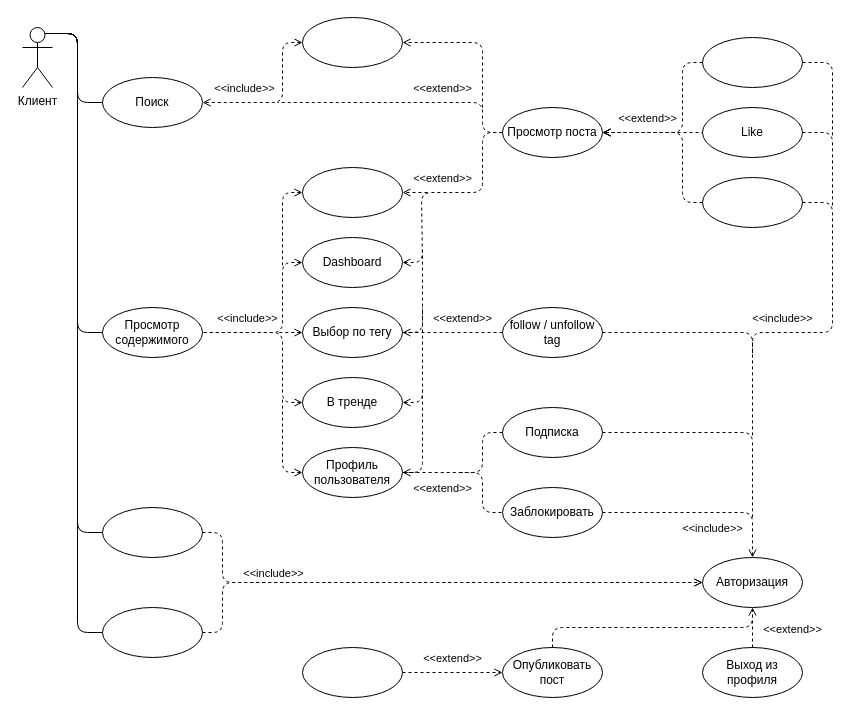
Image size: 851x715. Some labels were removed from this diagram. The shapes that lost their labels are listed below. From the top down, each one's box as (x1, y1, x2, y2) in pixels, then its label:
(302, 16, 402, 68): Фильтрация
(702, 36, 802, 88): Reblog
(302, 166, 402, 218): Liked
(702, 176, 802, 228): Отметить как нерелевантный
(102, 506, 202, 558): Вход
(102, 606, 202, 658): Регистрация
(302, 646, 402, 698): Удалить пост
